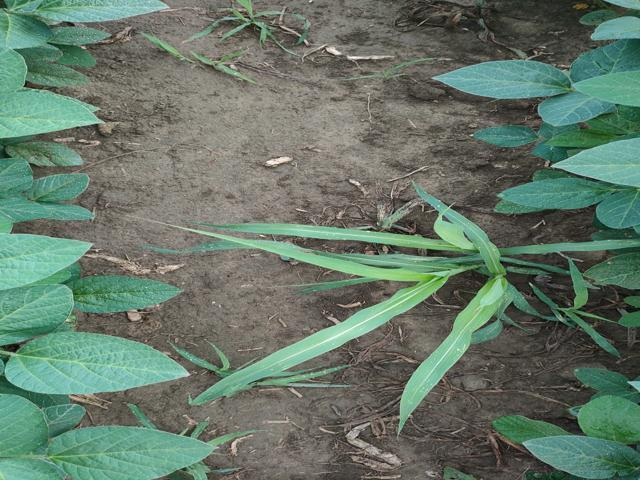bad weed: (186, 202, 640, 435), (143, 0, 315, 85)
